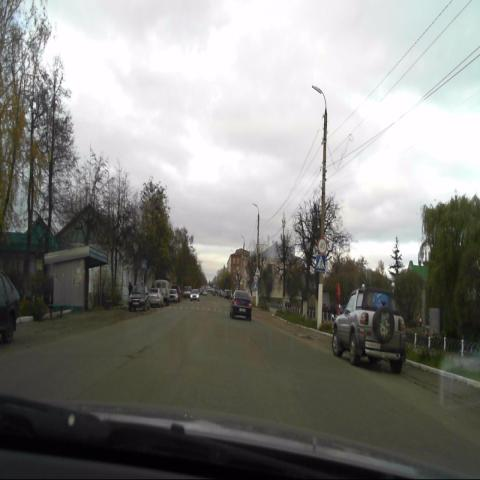3_24: (317, 238, 327, 253)
5_19_1: (316, 253, 326, 272), (141, 259, 147, 270)
